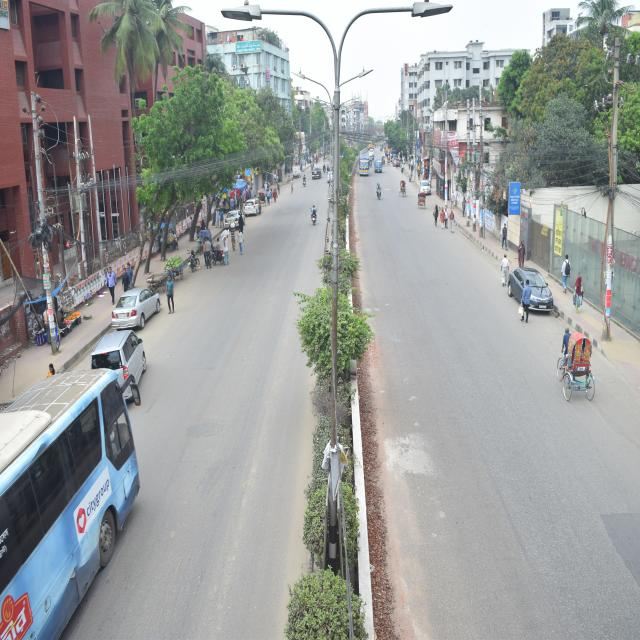bus: (0, 344, 153, 640), (356, 151, 371, 188)
car: (96, 275, 180, 347), (89, 320, 159, 397), (499, 238, 556, 325), (221, 197, 248, 244), (241, 181, 264, 223), (415, 170, 435, 200), (308, 161, 323, 186)
motorbike: (208, 233, 232, 280), (304, 195, 322, 228), (372, 177, 385, 212)
pickup-van: (374, 155, 384, 179)
